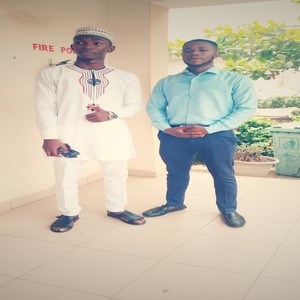Fulokoja_male_student: (38, 33, 146, 232), (166, 35, 243, 224)
